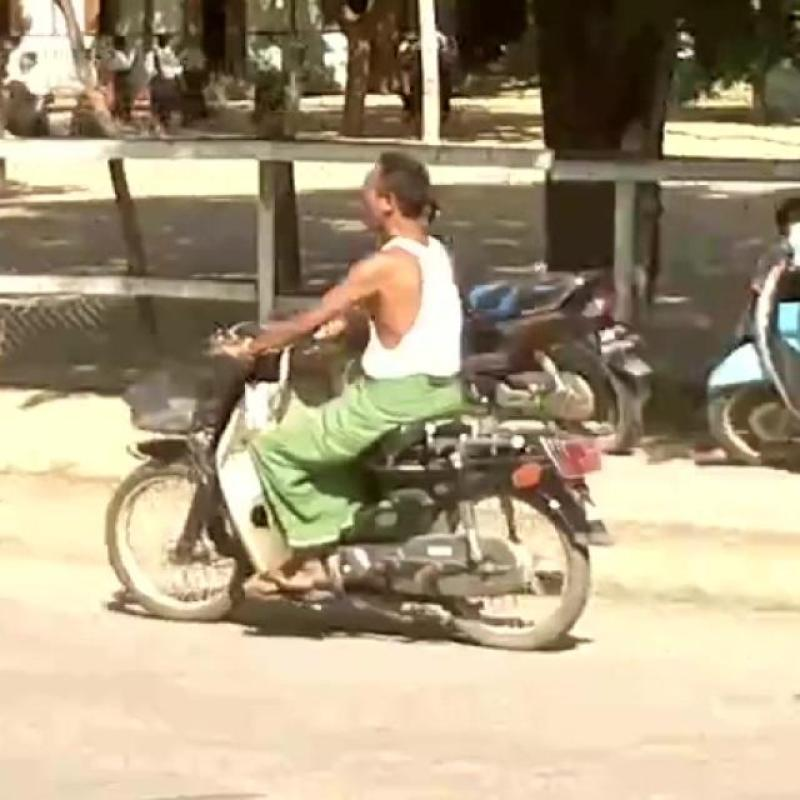nohelmet: (340, 140, 461, 260)
